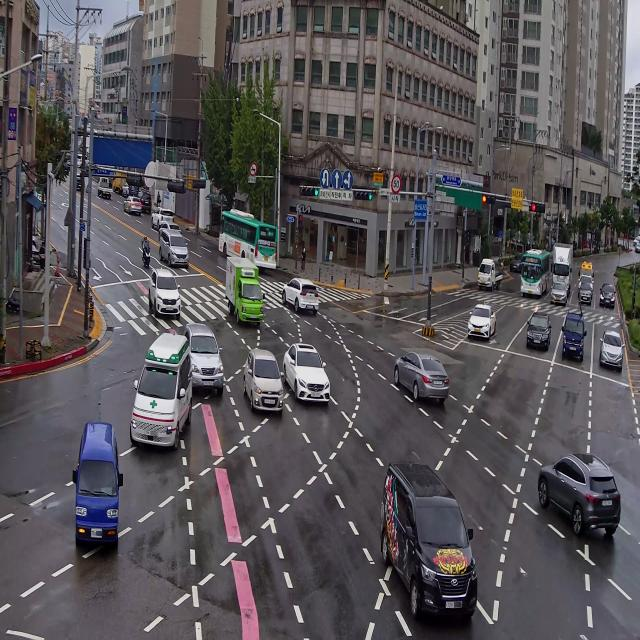Bus: (212, 202, 283, 274), (520, 236, 556, 305)
Car: (374, 460, 475, 639), (124, 316, 200, 466), (533, 428, 621, 556), (70, 417, 126, 565), (394, 340, 454, 420), (279, 329, 336, 409), (240, 338, 288, 421), (186, 318, 228, 410), (145, 261, 188, 330), (522, 302, 558, 364), (284, 270, 324, 318), (468, 286, 498, 348), (160, 227, 200, 270), (598, 319, 624, 384), (598, 278, 618, 308), (576, 255, 596, 281), (156, 217, 182, 237), (508, 249, 525, 273), (577, 284, 595, 306), (150, 209, 172, 226), (124, 195, 140, 217), (139, 191, 153, 214), (74, 168, 85, 194), (578, 275, 594, 291), (122, 175, 130, 196)
Motorcycle: (136, 227, 156, 281)
Truck: (220, 253, 265, 330), (563, 304, 590, 372), (552, 233, 574, 301), (476, 257, 505, 291), (95, 171, 116, 212), (108, 166, 126, 194), (129, 178, 140, 202)
